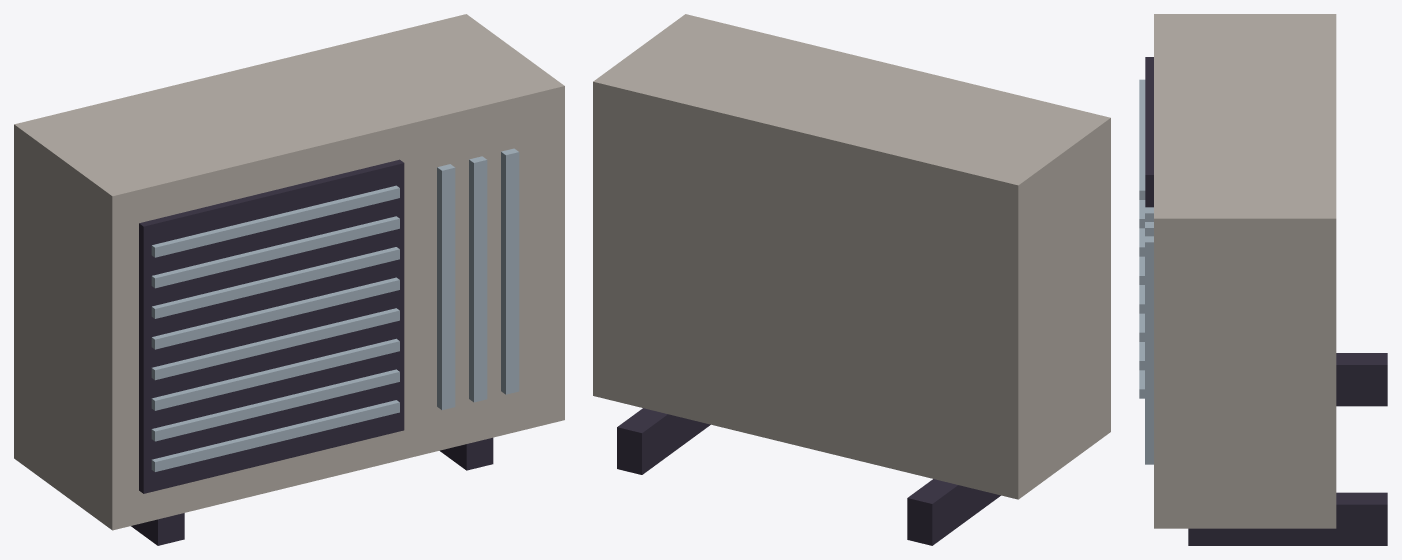
File: SM_AC_Outdoor_85.fbx
The picture shows the model from 3 angles, left to right: view 1: azimuth 30°, elevation 25°; view 2: azimuth 150°, elevation 25°; view 3: azimuth 270°, elevation 25°; orthographic projection. The views are drawn at different scales.
Visible parts, largest first — view 1: SM_AC_Outdoor_85; view 2: SM_AC_Outdoor_85; view 3: SM_AC_Outdoor_85.
Boxes of the visible parts, x1,y1,x2,y2 form: SM_AC_Outdoor_85: (14, 14, 564, 545); SM_AC_Outdoor_85: (593, 14, 1110, 545); SM_AC_Outdoor_85: (1139, 14, 1387, 545).
Size of the model in its own units: 0.85 by 0.436 by 0.68.
